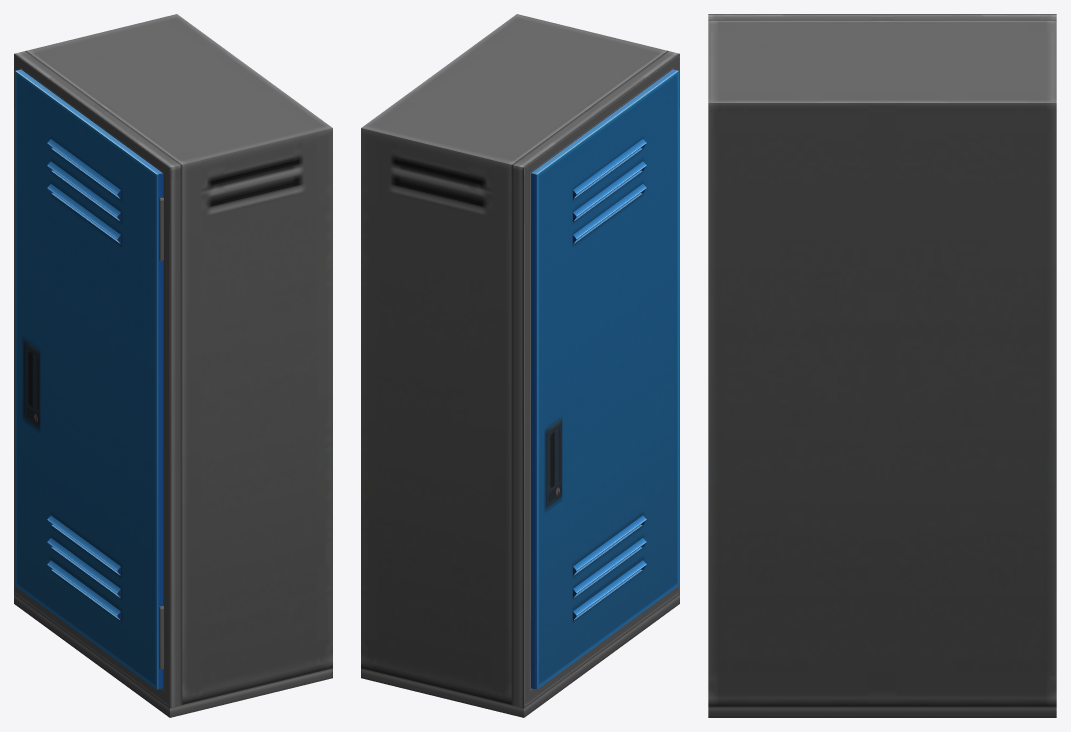
The model's file is my_gamedevdept_01_locker_01.glb.
3 views of the same model, side by side, from view 1: azimuth 30°, elevation 25°; view 2: azimuth 150°, elevation 25°; view 3: azimuth 270°, elevation 25° (orthographic). The views are drawn at different scales.
Parts seen in each view (by area): view 1: my_gamedevdept_01_locker_01; view 2: my_gamedevdept_01_locker_01; view 3: my_gamedevdept_01_locker_01.
Boxes of the visible parts, bbox=[...] form: my_gamedevdept_01_locker_01: bbox=[14, 14, 332, 717]; my_gamedevdept_01_locker_01: bbox=[361, 14, 679, 717]; my_gamedevdept_01_locker_01: bbox=[708, 14, 1056, 717].
Bounding box in the file's own units: 0.00485 × 0.0147 × 0.00757.
1 material, 1 textured.
